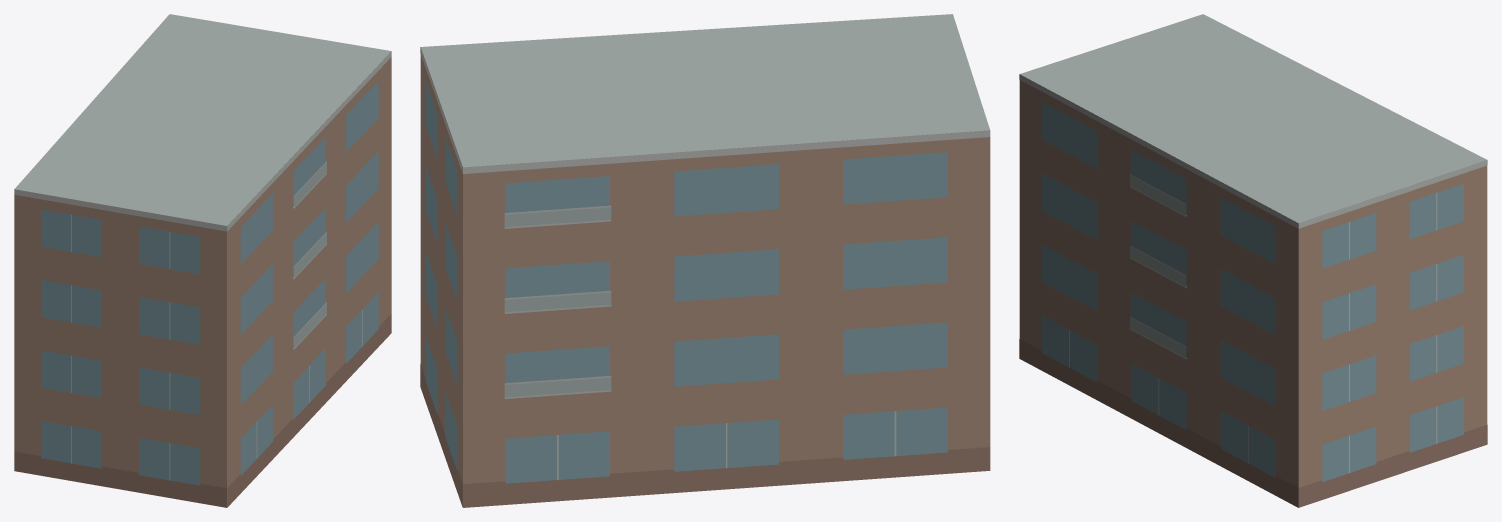
File: survey-upis-32729169.glb
The picture shows the model from 3 angles, left to right: view 1: azimuth 30°, elevation 25°; view 2: azimuth 150°, elevation 25°; view 3: azimuth 270°, elevation 25°; orthographic projection. The views are drawn at different scales.
Visible parts, largest first — view 1: survey-upis-32729169.tmp; view 2: survey-upis-32729169.tmp; view 3: survey-upis-32729169.tmp.
Part boxes in pixels (box(x1,y1,x2,y2)): survey-upis-32729169.tmp: box(14, 14, 391, 507); survey-upis-32729169.tmp: box(420, 14, 990, 507); survey-upis-32729169.tmp: box(1019, 14, 1487, 507).
Size of the model in its own units: 19.71 by 12.5 by 18.63.
